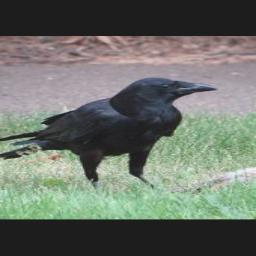Crow: (0, 76, 221, 191)
